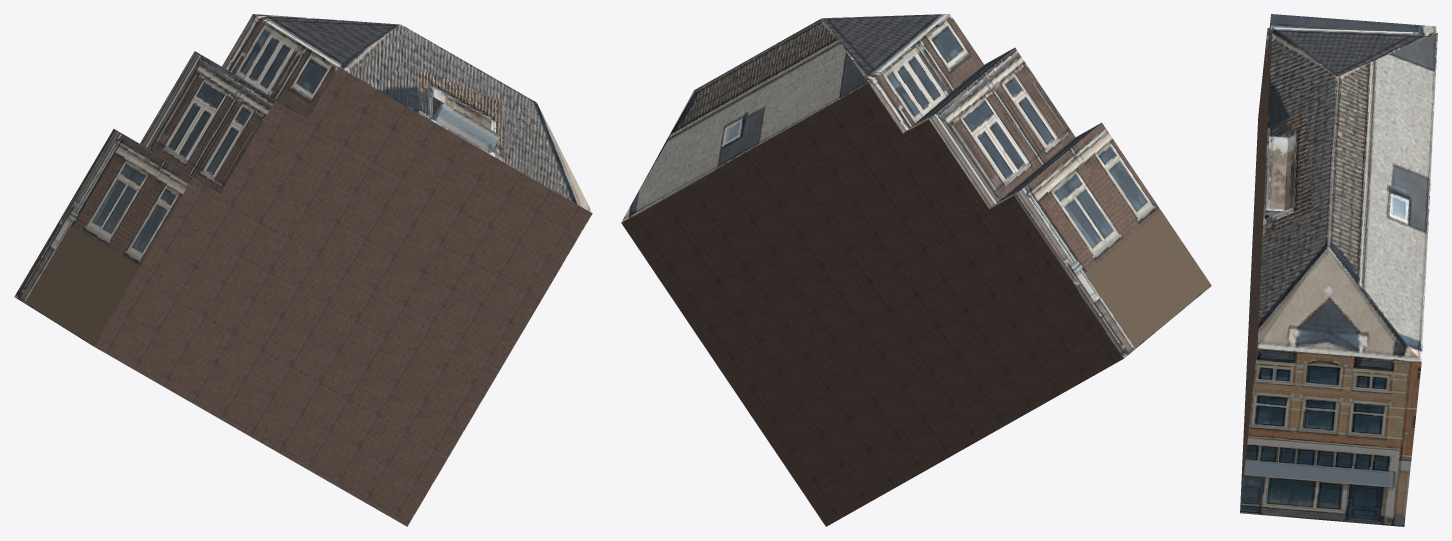
3 renders of one model, left to right at view 1: azimuth 30°, elevation 25°; view 2: azimuth 150°, elevation 25°; view 3: azimuth 270°, elevation 25°, orthographic.
Parts seen in each view (by area): view 1: BAG_0599100000671705 (×4); view 2: BAG_0599100000671705 (×3); view 3: BAG_0599100000671705 (×5).
Boxes of the visible parts, x1,y1,x2,y2 form: BAG_0599100000671705 (×4): (14,14,592,526); BAG_0599100000671705 (×3): (621,14,1211,526); BAG_0599100000671705 (×5): (1240,14,1437,526).
Size of the model in its own units: 19.03 by 17.11 by 6.5.
1 material, 1 textured.
